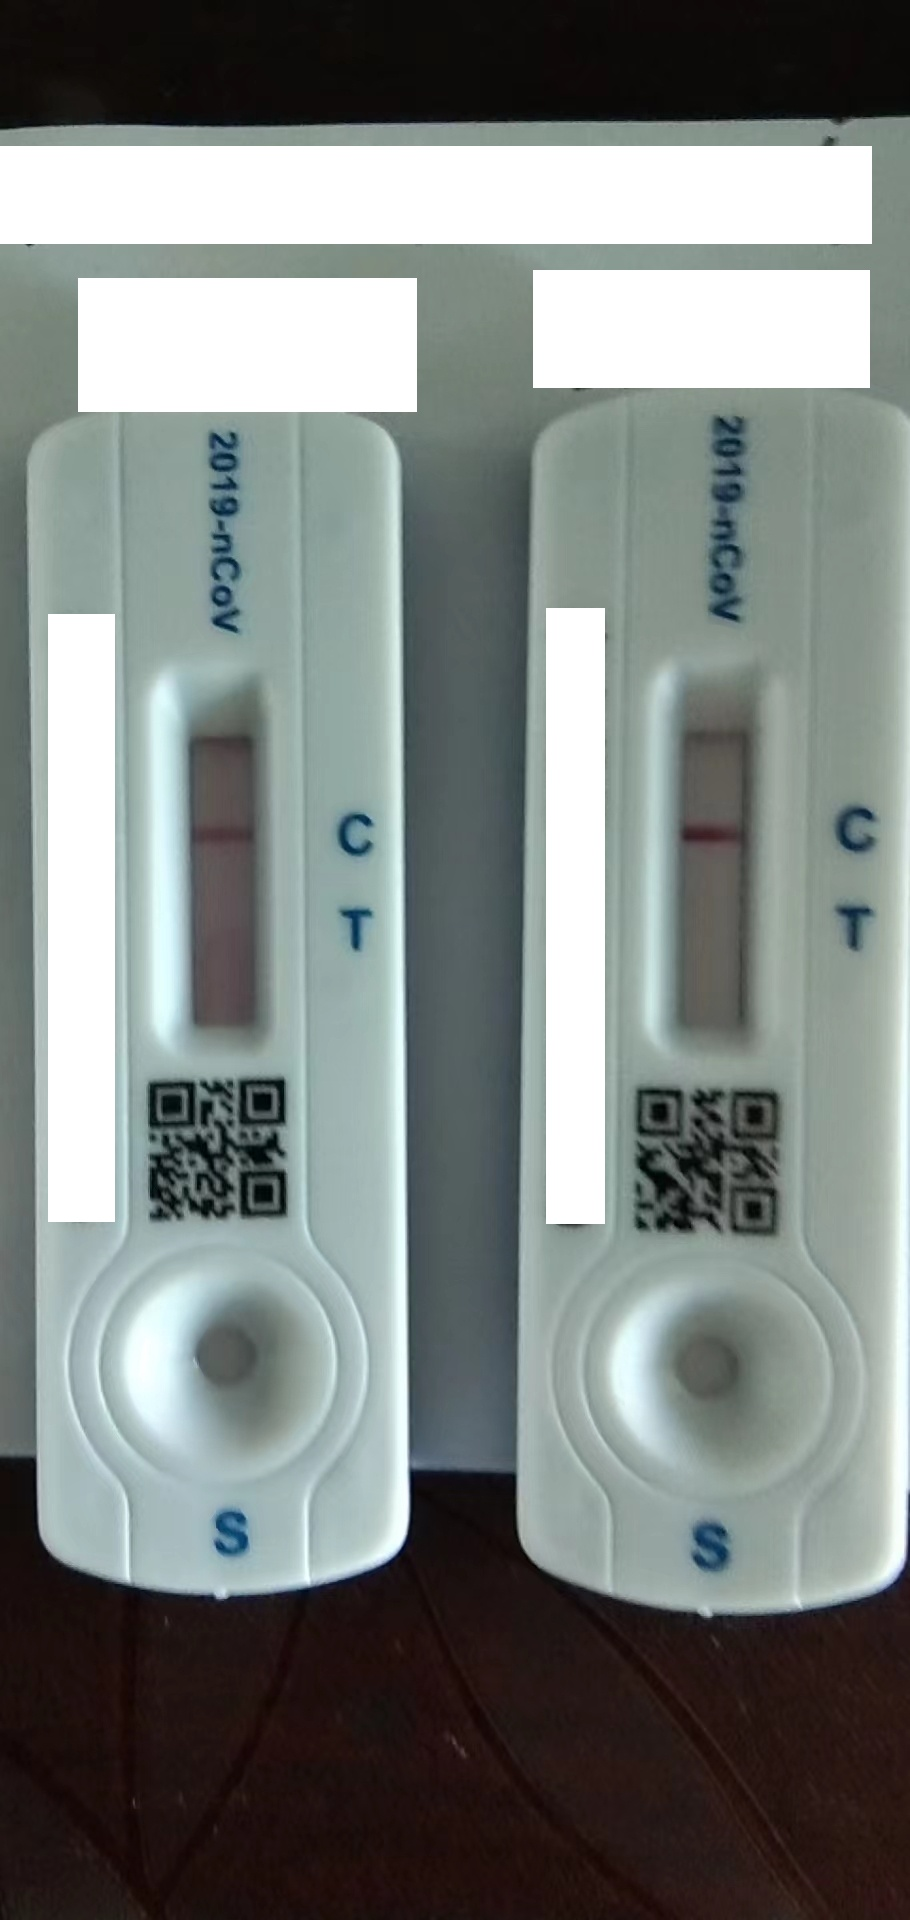negative: (665, 661, 761, 1080), (171, 665, 268, 1074)
